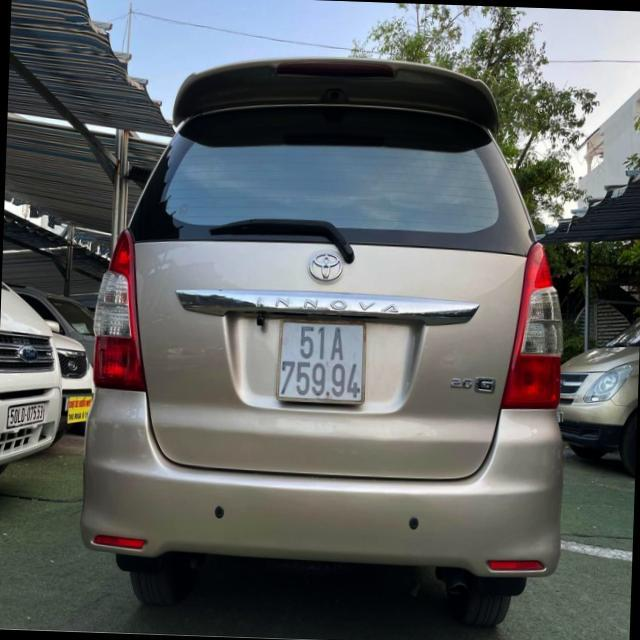car: (85, 54, 565, 619), (0, 236, 65, 487), (557, 290, 639, 487)
plate: (266, 312, 375, 411), (1, 395, 59, 438)
